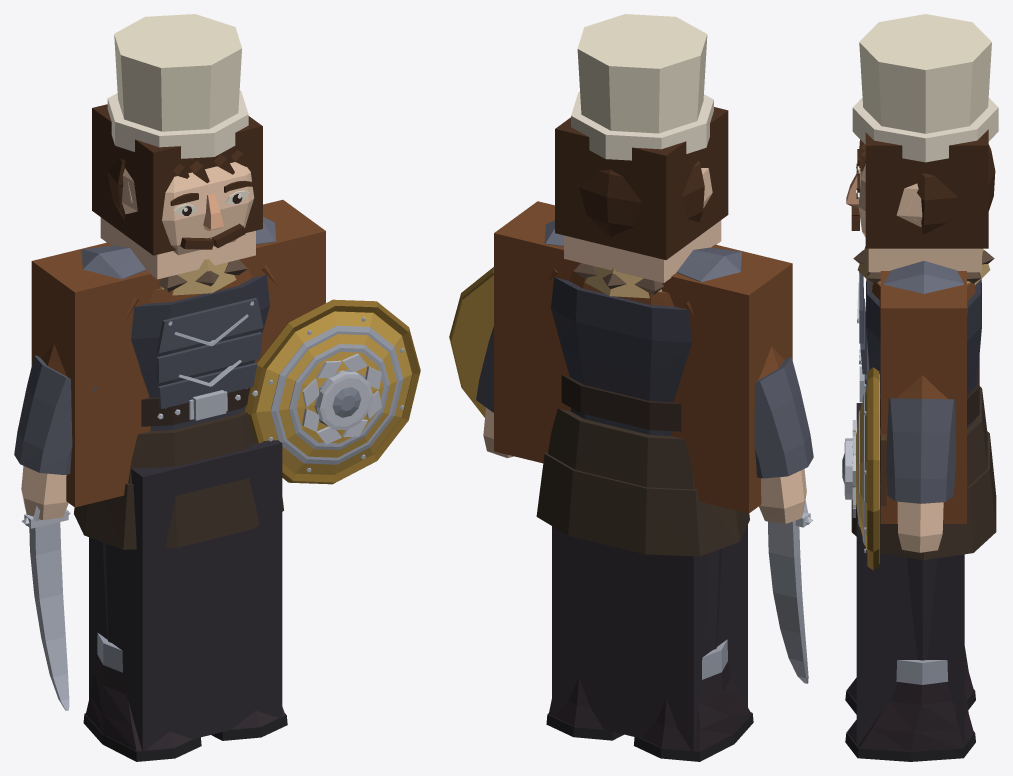
Rendered from kadro-alptug.obj.
The picture shows the model from 3 angles, left to right: view 1: azimuth 30°, elevation 25°; view 2: azimuth 150°, elevation 25°; view 3: azimuth 270°, elevation 25°; orthographic projection.
Visible parts, largest first — view 1: kalkaneri-uzak-bacak, kalkaneri-uzak-govde, alptug-bork, kalkaneri-kalca-plakalari-destansi-efsanevi, kalkaneri-kalkan-destansi-efsanevi, kalkaneri-uzak-sac, kalkaneri-gogus-plakalari-destansi-efsanevi, kalkaneri-kalkan-suslemeleri-destansi-efsanevi, kalkaneri-gogus-zirhi-nadir-destansi-efsanevi, kalkaneri-kol-zirhlari-destansi-efsanevi, kalkaneri-kalkan-cercedeyi-destansi-efsanevi, kalkaneri-kafa (+18 smaller); view 2: kalkaneri-uzak-govde, kalkaneri-uzak-bacak, kalkaneri-kalca-plakalari-destansi-efsanevi, kalkaneri-uzak-sac, alptug-bork, kalkaneri-gogus-zirhi-nadir-destansi-efsanevi, kalkaneri-kol-zirhlari-destansi-efsanevi, kalkaneri-cizmeler, kalkaneri-kilic-destansi-efsanevi, kalkaneri-sac, alptug-bork-kurku, kalkaneri-kemer (+11 smaller); view 3: alptug-bork, kalkaneri-uzak-bacak, kalkaneri-uzak-govde, kalkaneri-uzak-sac, kalkaneri-kol-zirhlari-destansi-efsanevi, kalkaneri-cizmeler, kalkaneri-kalca-plakalari-destansi-efsanevi, alptug-bork-kurku, kalkaneri-kalkan-cercedeyi-destansi-efsanevi, kalkaneri-gogus-zirhi-nadir-destansi-efsanevi, kalkaneri-uzak-kafa, kalkaneri-sac (+16 smaller).
Part boxes in pixels (x1,y1,x2,y2): kalkaneri-uzak-bacak: (89, 440, 282, 750); kalkaneri-uzak-govde: (31, 199, 325, 507); alptug-bork: (114, 14, 241, 131); kalkaneri-kalca-plakalari-destansi-efsanevi: (74, 410, 283, 549); kalkaneri-kalkan-destansi-efsanevi: (256, 311, 412, 474); kalkaneri-uzak-sac: (92, 104, 262, 255); kalkaneri-gogus-plakalari-destansi-efsanevi: (156, 298, 263, 408); kalkaneri-kalkan-suslemeleri-destansi-efsanevi: (268, 317, 404, 472); kalkaneri-gogus-zirhi-nadir-destansi-efsanevi: (131, 274, 269, 431); kalkaneri-kol-zirhlari-destansi-efsanevi: (14, 355, 97, 474); kalkaneri-kalkan-cercedeyi-destansi-efsanevi: (245, 299, 420, 484); kalkaneri-kafa: (122, 162, 254, 255); kalkaneri-uzak-govde: (494, 201, 792, 513); kalkaneri-uzak-bacak: (552, 525, 747, 750); kalkaneri-kalca-plakalari-destansi-efsanevi: (536, 408, 749, 556); kalkaneri-uzak-sac: (555, 107, 728, 259); alptug-bork: (577, 14, 707, 133); kalkaneri-gogus-zirhi-nadir-destansi-efsanevi: (551, 277, 691, 436); kalkaneri-kol-zirhlari-destansi-efsanevi: (476, 326, 813, 478); kalkaneri-cizmeler: (549, 662, 751, 750); kalkaneri-kilic-destansi-efsanevi: (768, 520, 808, 683); kalkaneri-sac: (579, 160, 704, 236); alptug-bork-kurku: (571, 91, 713, 160); kalkaneri-kemer: (561, 375, 681, 431); alptug-bork: (859, 14, 991, 133); kalkaneri-uzak-bacak: (856, 403, 964, 745); kalkaneri-uzak-govde: (880, 271, 966, 523); kalkaneri-uzak-sac: (865, 129, 988, 248); kalkaneri-kol-zirhlari-destansi-efsanevi: (880, 398, 955, 503); kalkaneri-cizmeler: (847, 646, 973, 751); kalkaneri-kalca-plakalari-destansi-efsanevi: (851, 386, 996, 559); alptug-bork-kurku: (852, 97, 998, 162); kalkaneri-kalkan-cercedeyi-destansi-efsanevi: (867, 367, 879, 570); kalkaneri-gogus-zirhi-nadir-destansi-efsanevi: (866, 279, 981, 428); kalkaneri-uzak-kafa: (868, 248, 981, 272); kalkaneri-sac: (858, 139, 995, 234).
Size of the model in its own units: 2.63 by 4.51 by 0.942.
